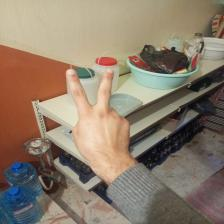two: (62, 65, 134, 169)
